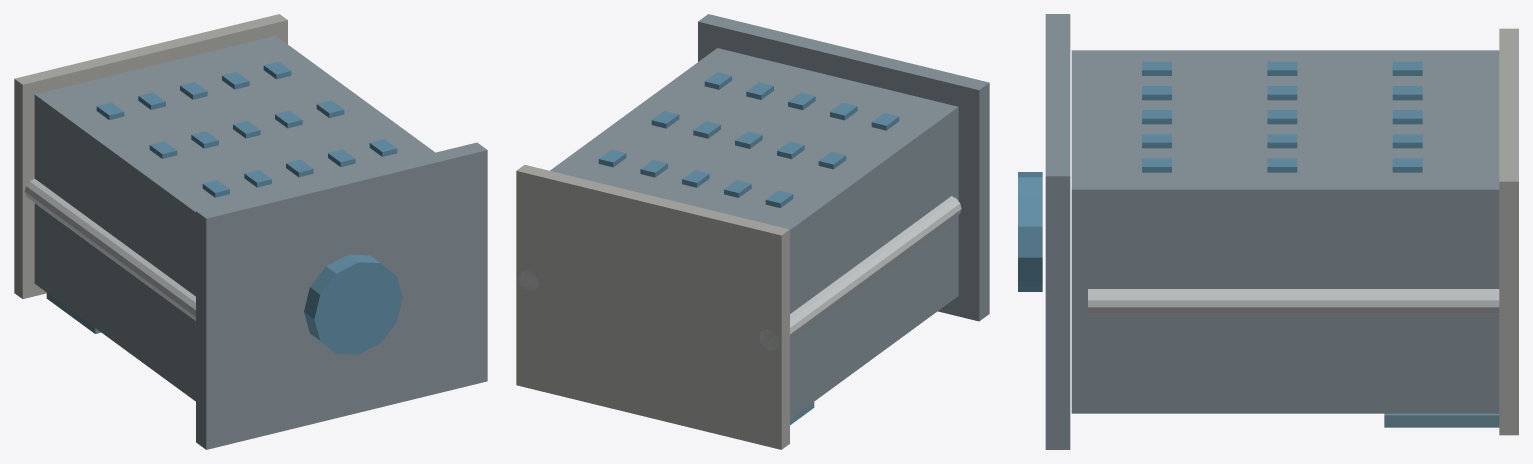
File: AGE_X_commercial.glb
The picture shows the model from 3 angles, left to right: view 1: azimuth 30°, elevation 25°; view 2: azimuth 150°, elevation 25°; view 3: azimuth 270°, elevation 25°; orthographic projection. The views are drawn at different scales.
Parts seen in each view (by area): view 1: world; view 2: world; view 3: world.
Part boxes in pixels (box(x1,y1,x2,y2)): world: box(14, 14, 487, 449); world: box(516, 14, 989, 449); world: box(1018, 14, 1518, 449).
Bounding box in the file's own units: 7 × 5.5 × 9.12.
